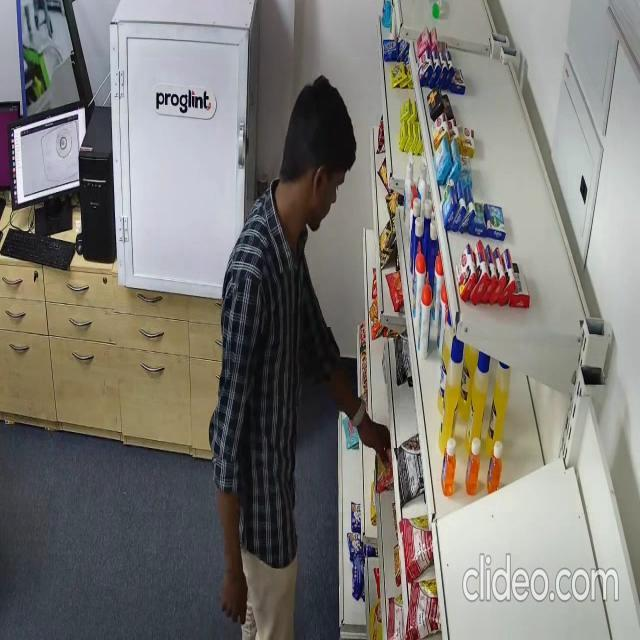normal: (212, 72, 393, 640)
